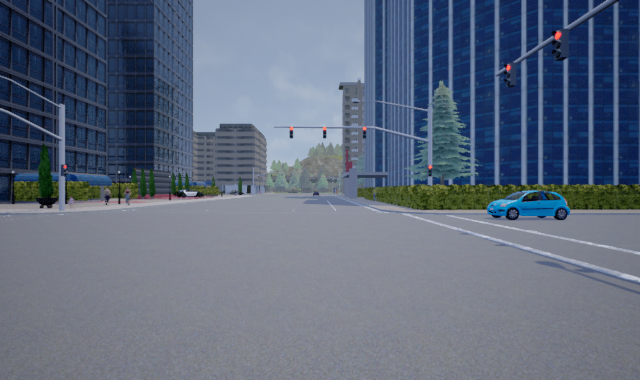pedestrian: (101, 185, 112, 206), (122, 185, 132, 205), (65, 195, 77, 210)
vehicle: (486, 190, 568, 220), (173, 189, 204, 200)
